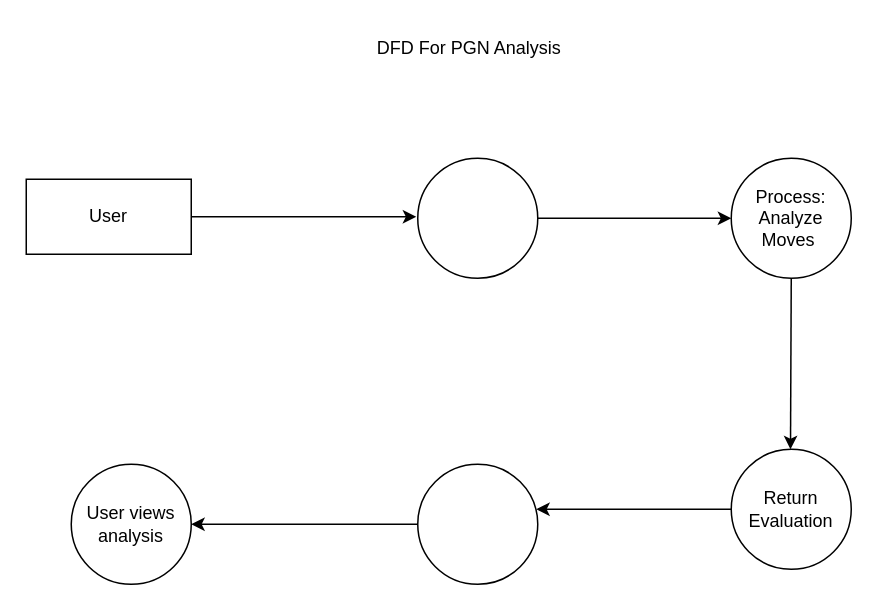
Image size: 878x611. Some labels were removed from this diagram. Each missing label, with the box of its shape:
Render UI Feedback: (416, 463, 538, 584)
User uploads PGN: (416, 157, 538, 278)
